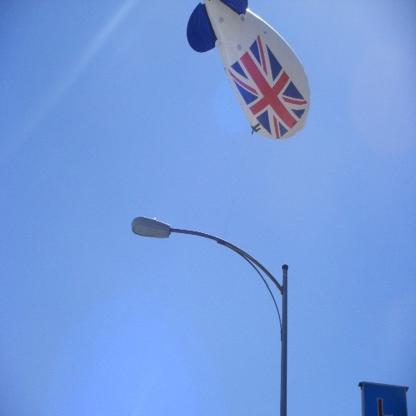Airship: (182, 1, 316, 145)
